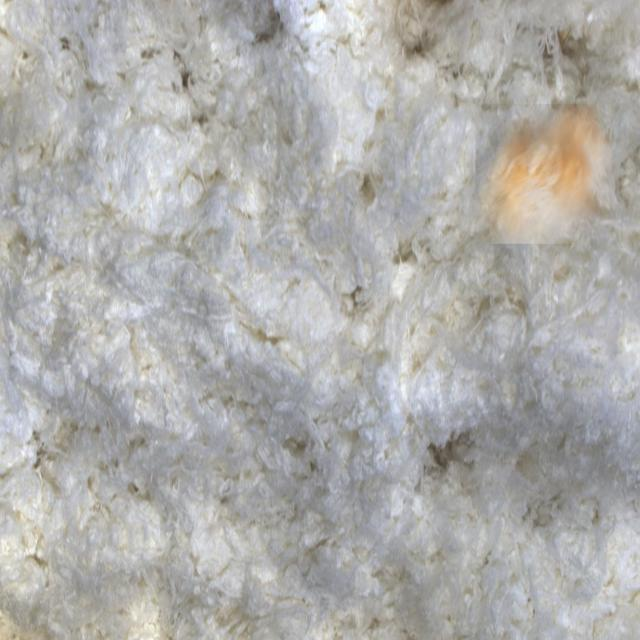dust: (476, 104, 613, 244)
